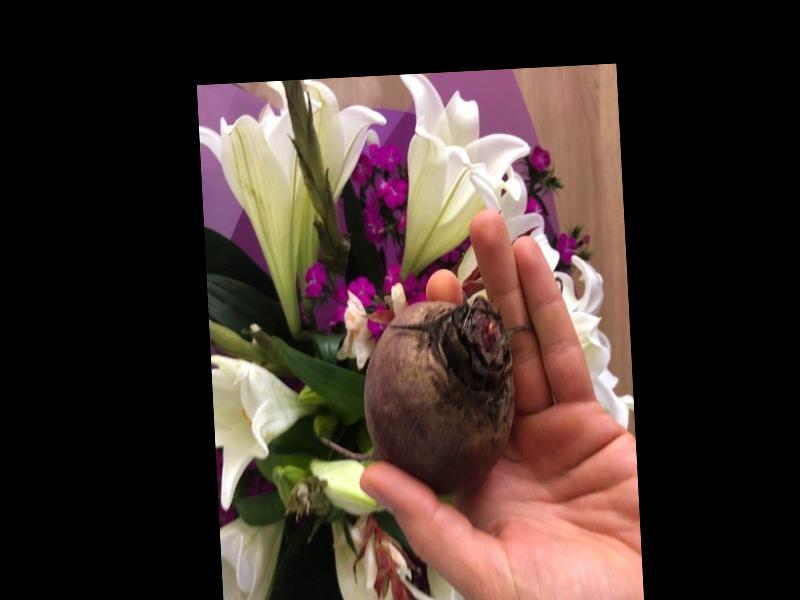Beet: (312, 296, 520, 501)
